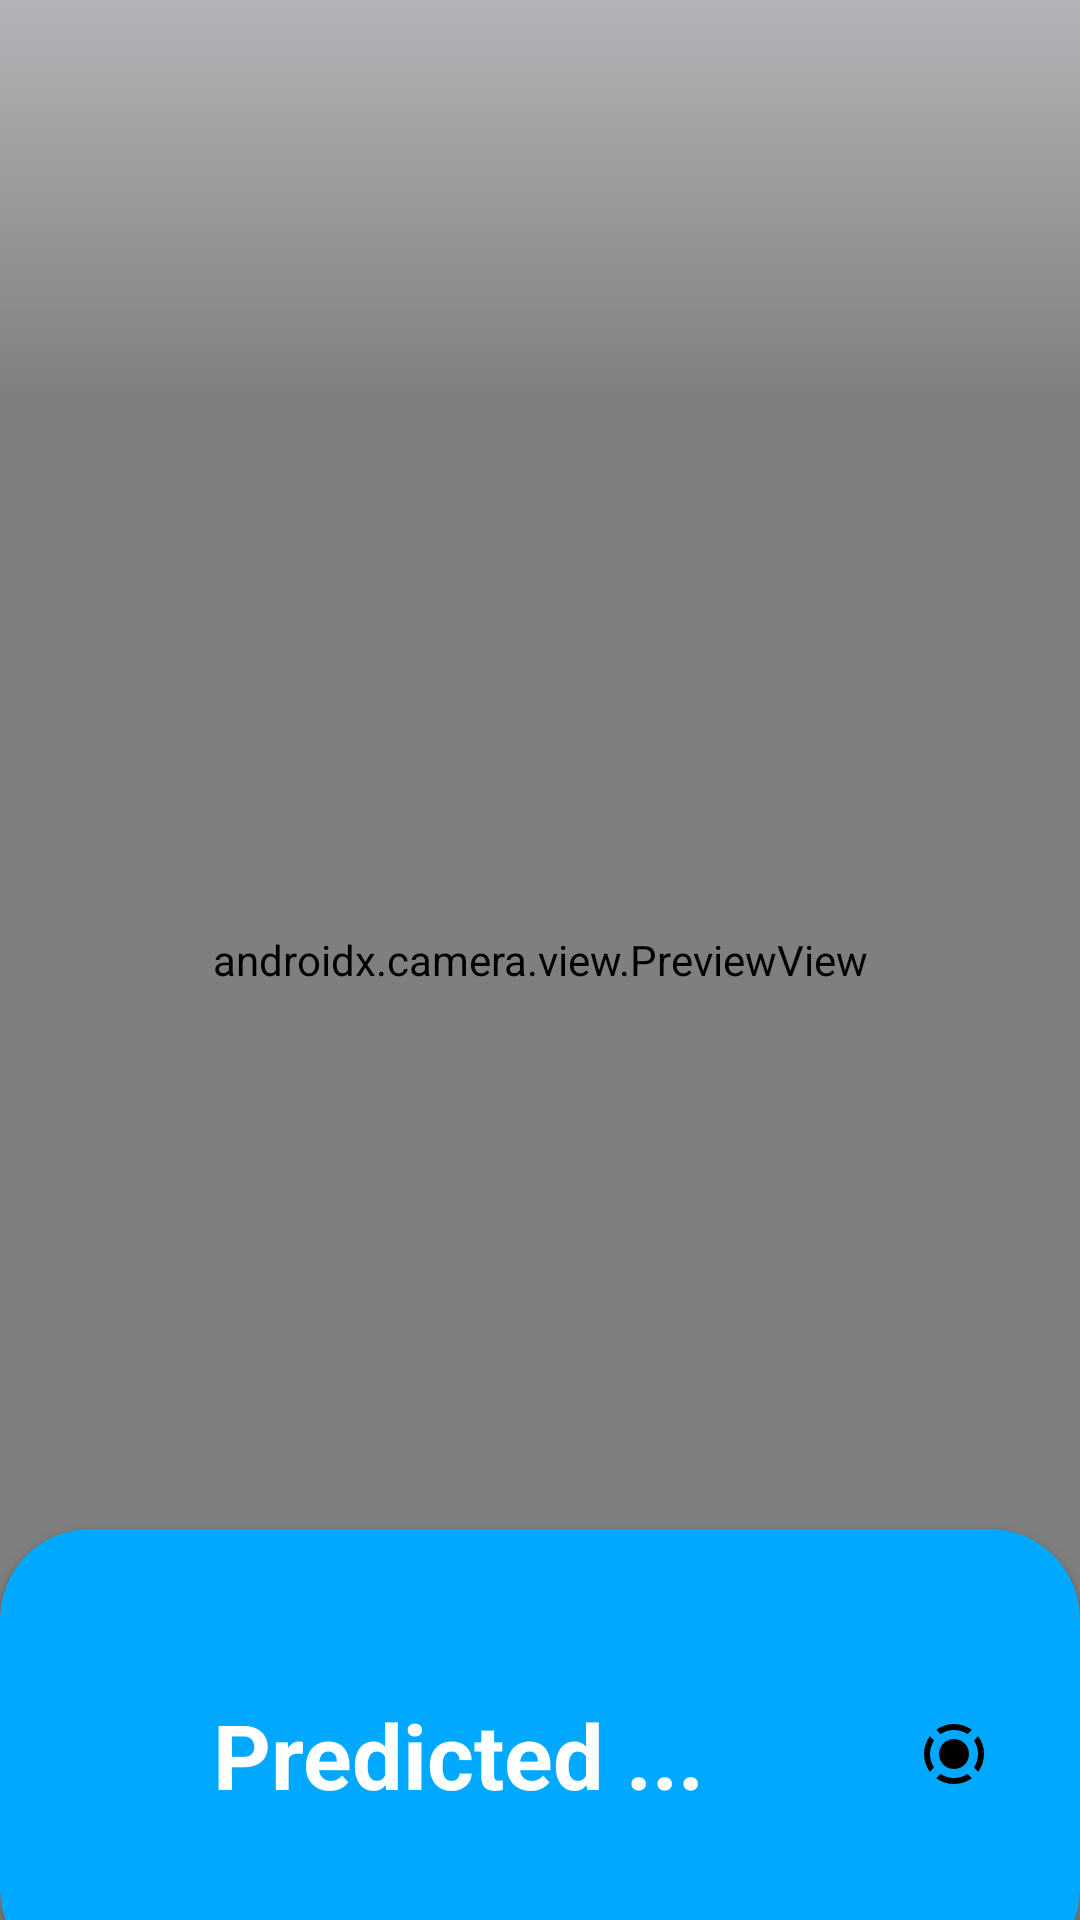

Named icons in this screenshot (1080*1920) and their centers, (x=x, y=y):
screen record: (x=954, y=1754)
